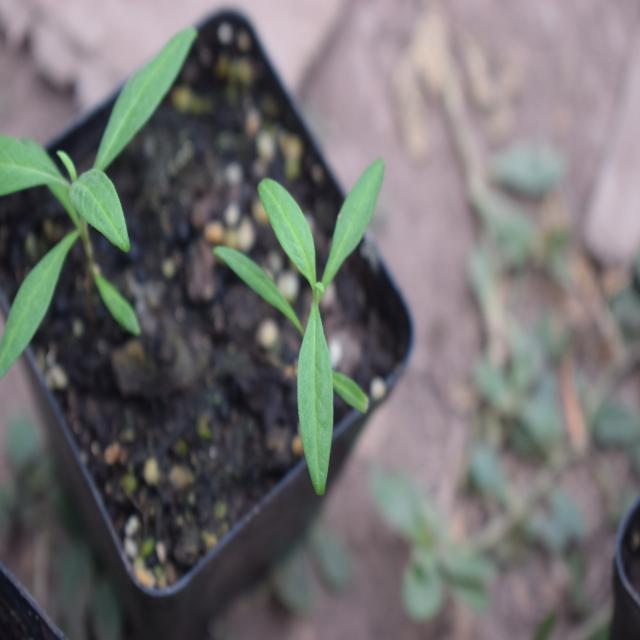white_smart_weed: (210, 141, 393, 502), (0, 32, 220, 326)
